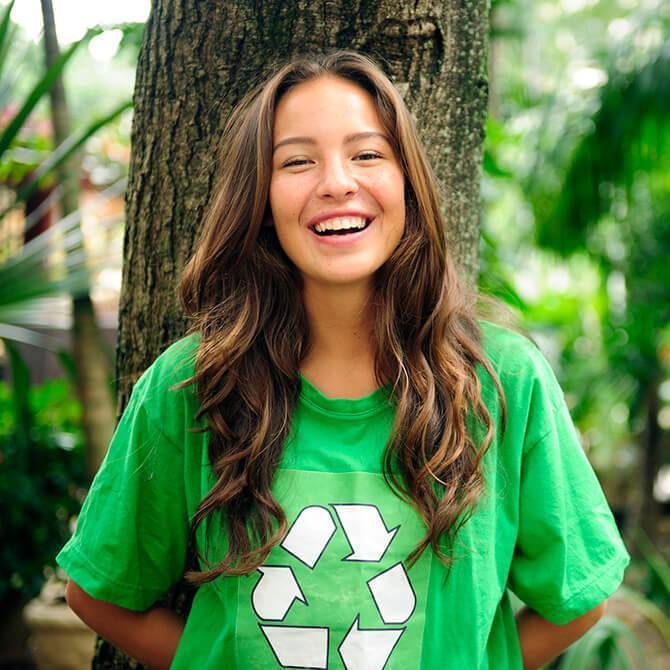Ear-protection: (70, 45, 631, 670)
